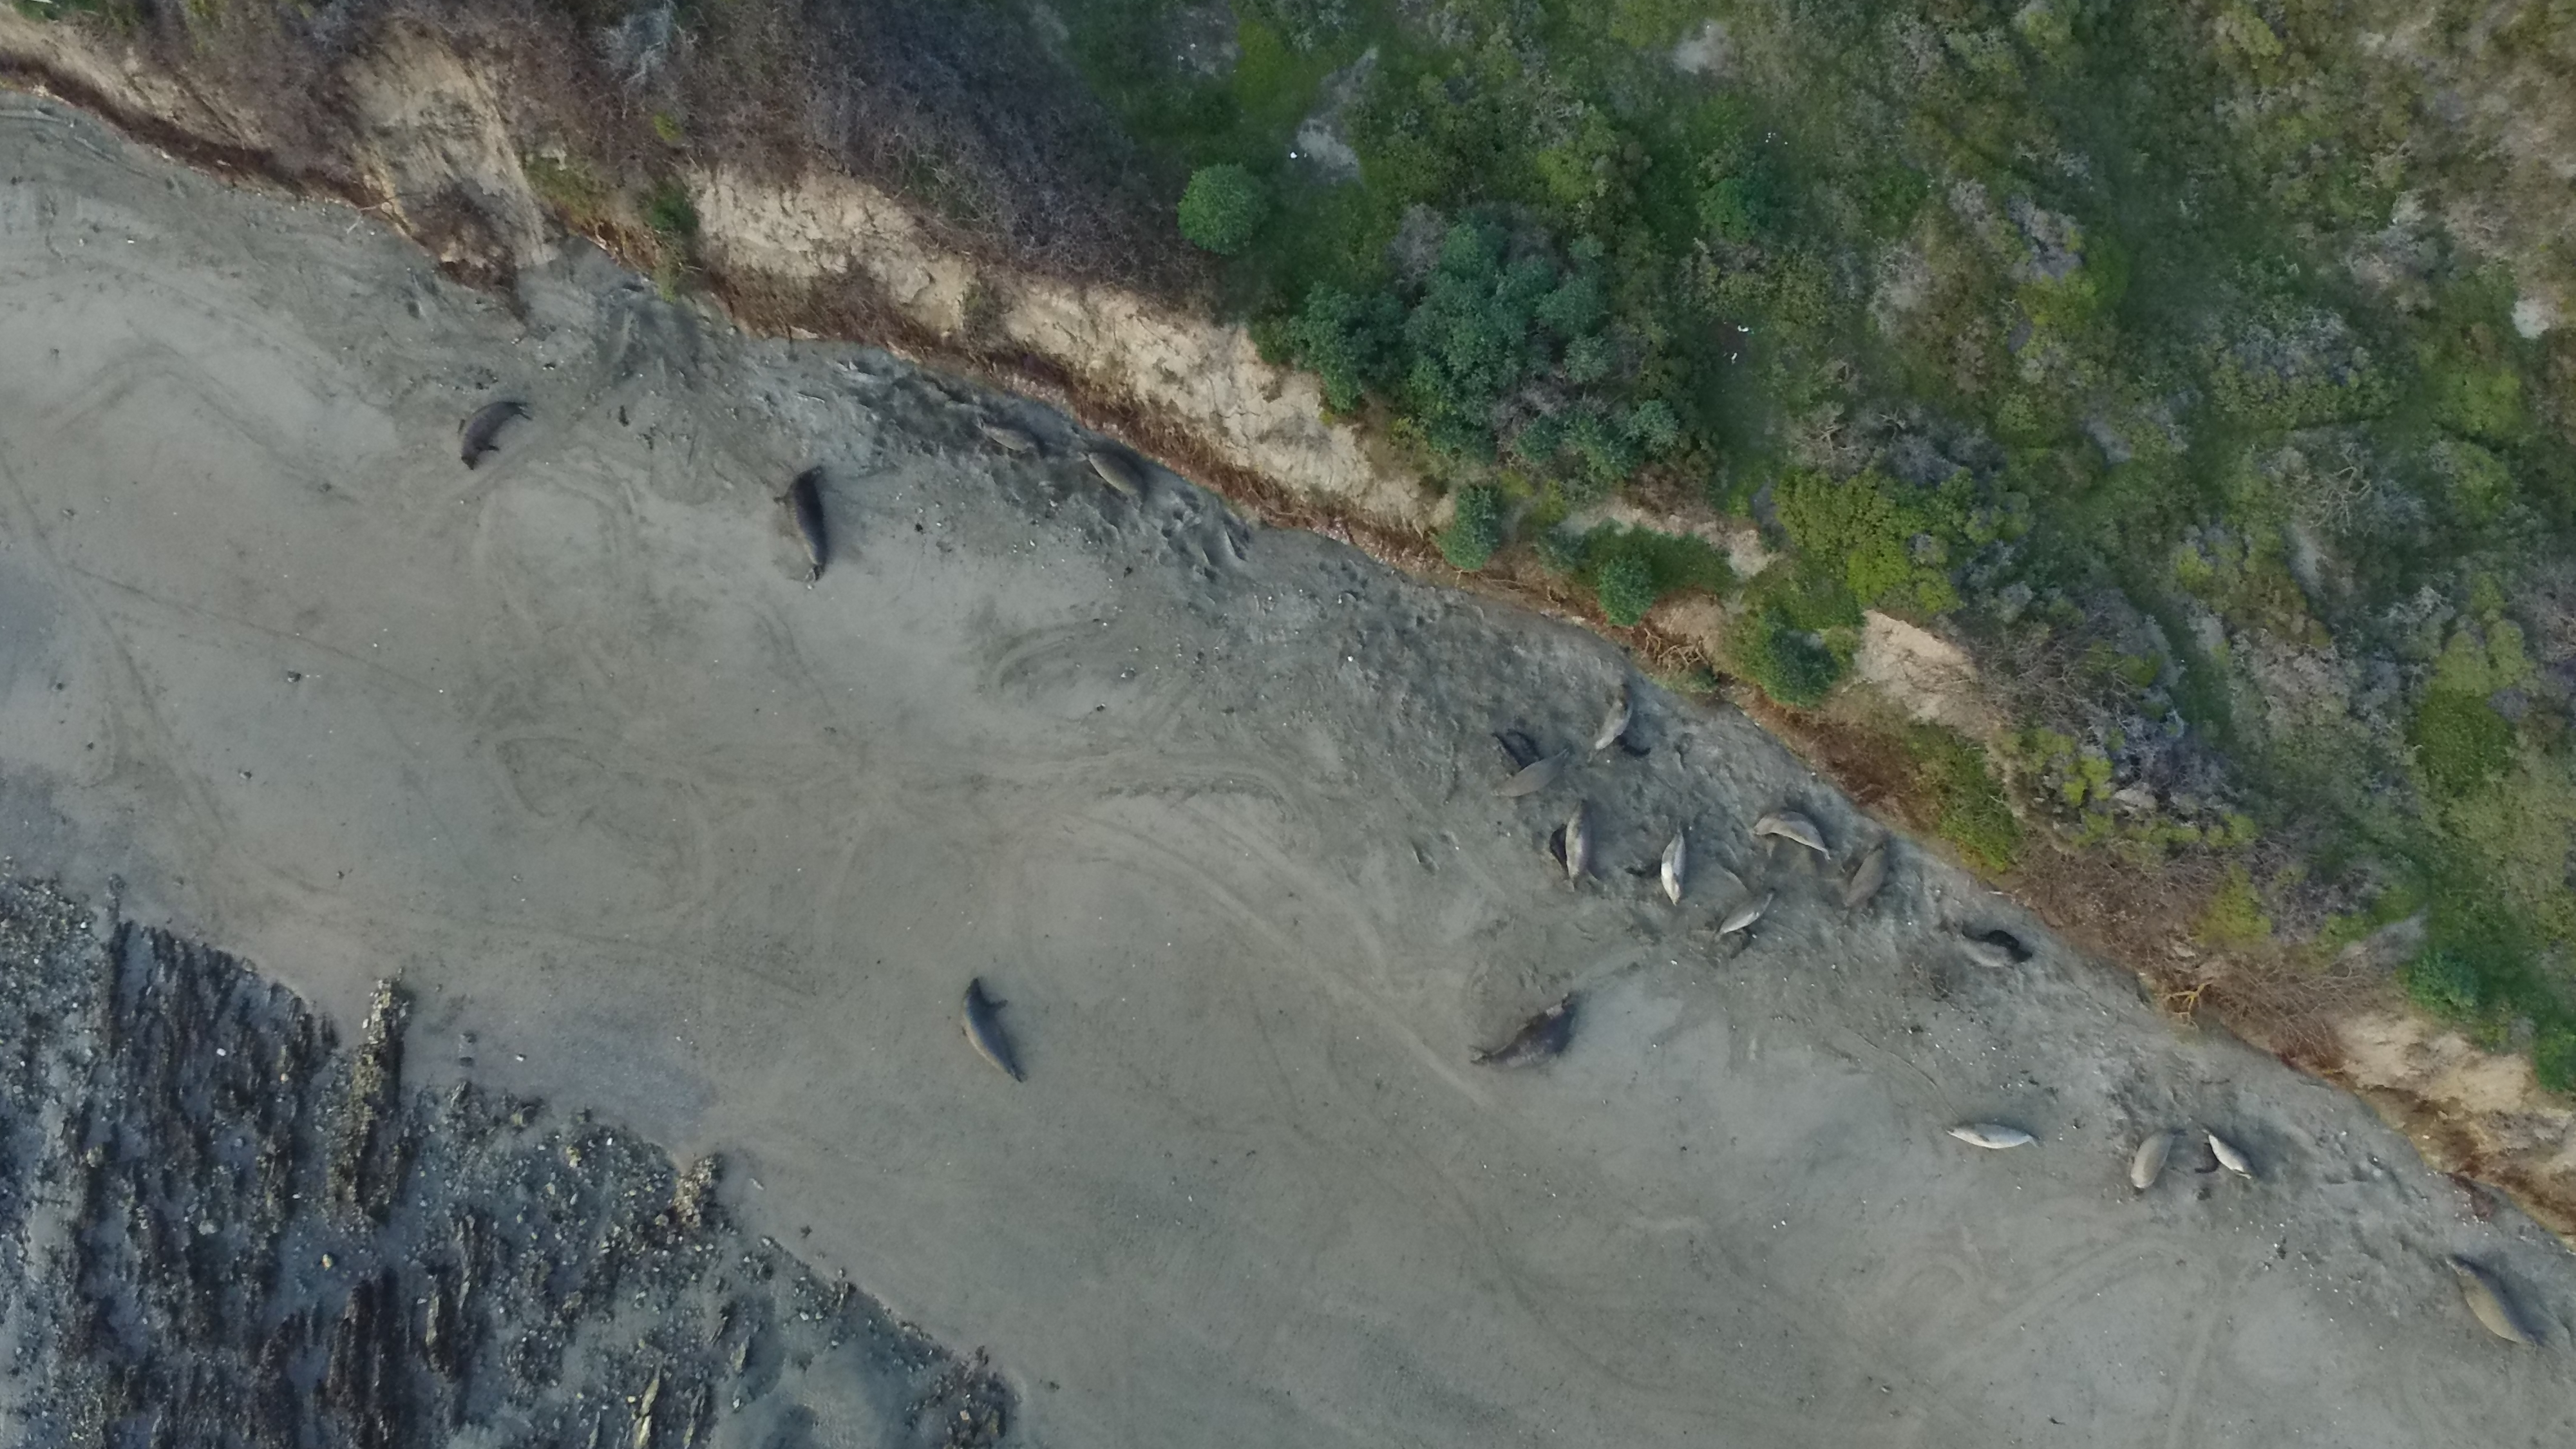adult male: (775, 465, 833, 584), (1477, 996, 1576, 1065), (961, 978, 1017, 1083), (451, 400, 529, 471)
male juvenile / female juvenile / adult female: (1491, 750, 1573, 798), (1716, 888, 1775, 941), (1752, 810, 1828, 851), (2203, 1125, 2256, 1175), (978, 416, 1046, 455), (1594, 686, 1635, 750), (1948, 1122, 2040, 1146), (1661, 823, 1688, 908), (1953, 938, 2033, 966), (1568, 800, 1587, 881)
pup: (1497, 738, 1518, 771), (1514, 732, 1539, 757), (1552, 828, 1566, 867), (1628, 860, 1667, 872), (1619, 740, 1649, 755), (2199, 1146, 2213, 1173), (1737, 927, 1748, 957), (1985, 936, 2017, 939)
